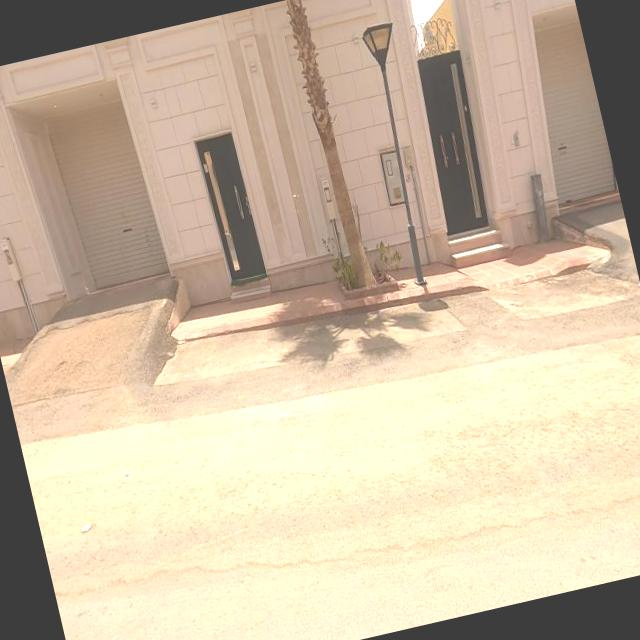debris: (52, 481, 122, 558)
